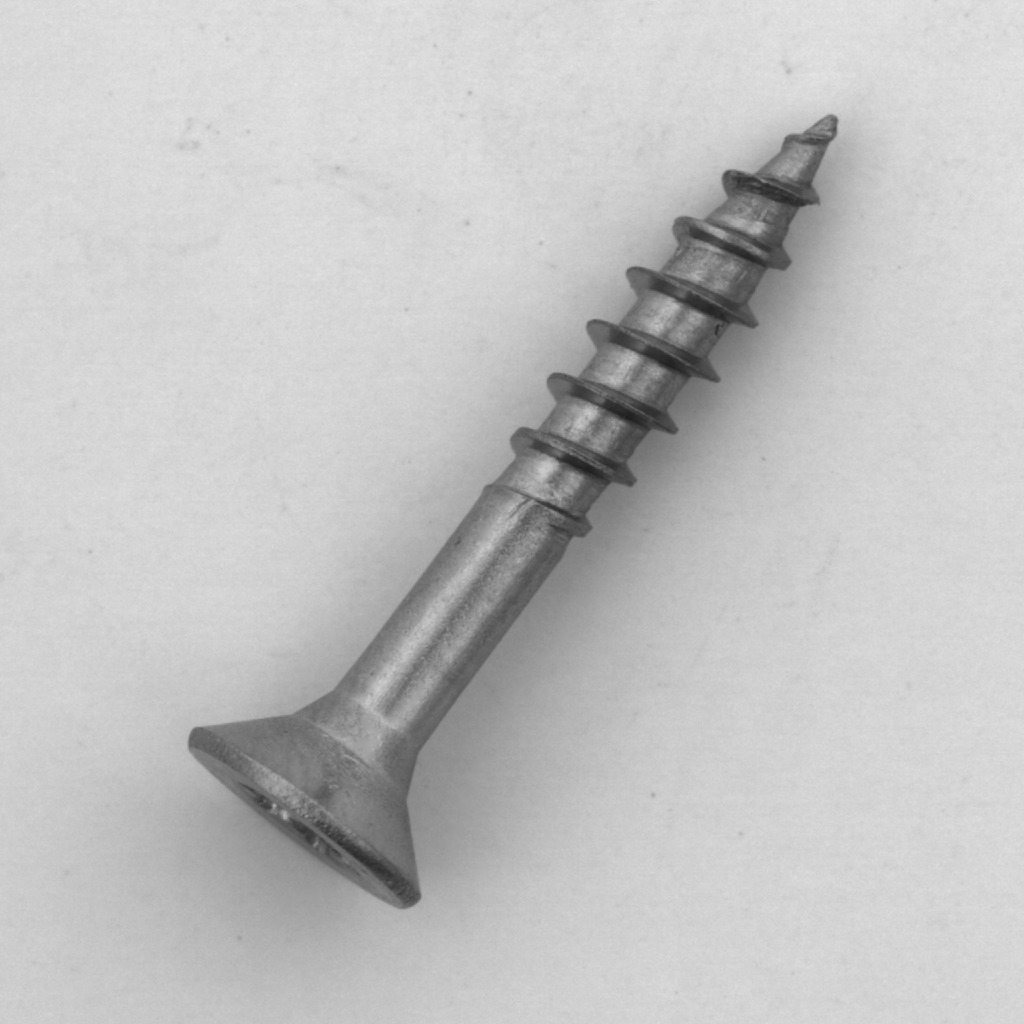good: (156, 75, 862, 932)
